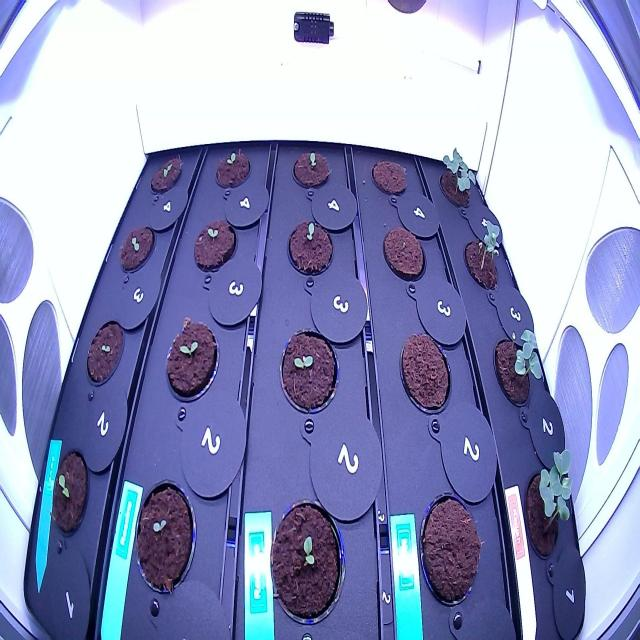germination: (264, 489, 348, 629), (128, 472, 200, 600), (519, 438, 579, 569), (275, 322, 342, 418), (489, 320, 549, 420), (162, 315, 220, 409), (454, 210, 509, 301), (43, 446, 91, 542), (281, 211, 336, 282), (435, 142, 483, 217), (81, 315, 129, 388), (188, 214, 238, 276), (116, 217, 157, 278), (287, 144, 333, 196), (212, 147, 254, 194), (147, 150, 187, 198)
pod: (414, 484, 486, 616), (394, 326, 454, 420), (378, 221, 428, 286), (367, 153, 410, 200)
